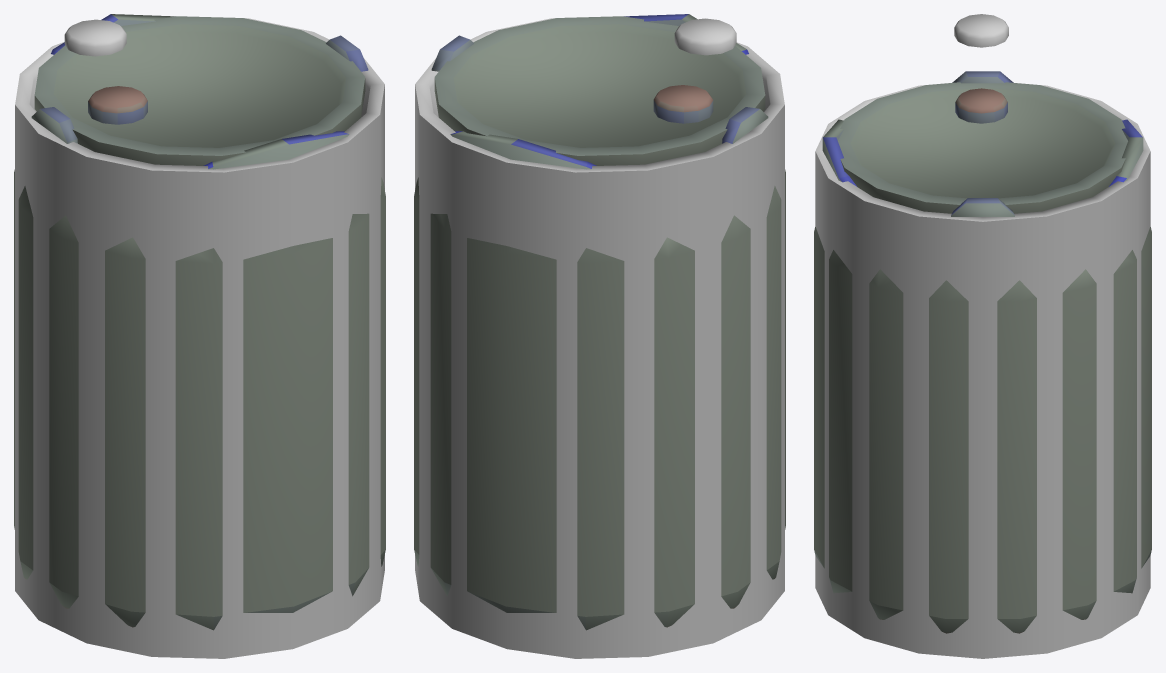
The model's file is Barrels_02.fbx.
3 views of the same model, side by side, from view 1: azimuth 30°, elevation 25°; view 2: azimuth 150°, elevation 25°; view 3: azimuth 270°, elevation 25° (orthographic). The views are drawn at different scales.
Visible parts, largest first — view 1: LowPolyBarrel 1, LowPolyBarrel 2, LowPolyBarrel 3; view 2: LowPolyBarrel 1, LowPolyBarrel 2, LowPolyBarrel 3; view 3: LowPolyBarrel 1, LowPolyBarrel 2, LowPolyBarrel 3.
Part boxes in pixels (x1,y1,x2,y2): LowPolyBarrel 1: [15, 18, 384, 658]; LowPolyBarrel 2: [14, 14, 385, 630]; LowPolyBarrel 3: [34, 16, 365, 165]; LowPolyBarrel 1: [415, 18, 784, 658]; LowPolyBarrel 2: [414, 14, 785, 630]; LowPolyBarrel 3: [434, 16, 765, 165]; LowPolyBarrel 1: [815, 14, 1150, 658]; LowPolyBarrel 2: [814, 71, 1151, 633]; LowPolyBarrel 3: [838, 82, 1127, 213].
Bounding box in the file's own units: 123 × 210 × 124.
